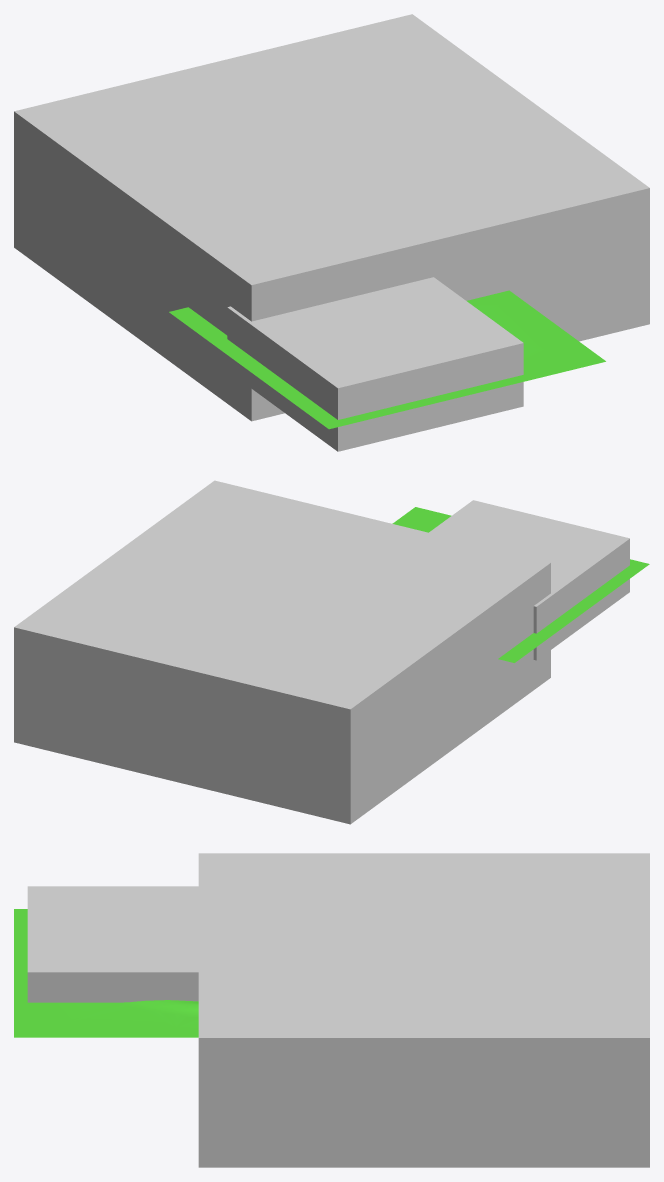
The model's file is tile_0_0.glb.
The picture shows the model from 3 angles, top to bottom: view 1: azimuth 30°, elevation 25°; view 2: azimuth 150°, elevation 25°; view 3: azimuth 270°, elevation 25°; orthographic projection. The views are drawn at different scales.
Parts seen in each view (by area): view 1: GrassVolume_2, GrassVolume_1, tile_0_0; view 2: GrassVolume_2, GrassVolume_1, tile_0_0; view 3: GrassVolume_2, GrassVolume_1, tile_0_0.
Part boxes in pixels (<box>): GrassVolume_2: <box>14,14,649,421</box>; GrassVolume_1: <box>227,277,523,451</box>; tile_0_0: <box>169,290,605,429</box>; GrassVolume_2: <box>14,480,550,824</box>; GrassVolume_1: <box>429,500,629,660</box>; tile_0_0: <box>392,507,649,662</box>; GrassVolume_2: <box>198,853,649,1167</box>; GrassVolume_1: <box>27,886,198,1002</box>; tile_0_0: <box>14,909,198,1037</box>.
Size of the model in its own units: 151 by 46.89 by 209.
